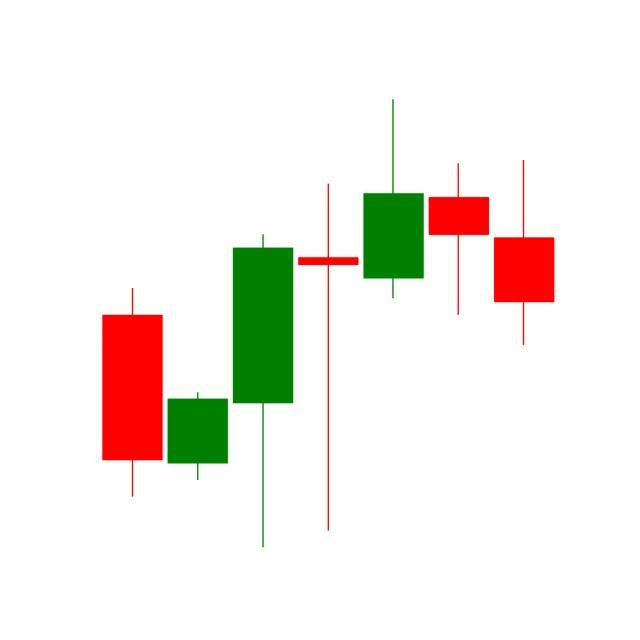Three Inside Up-Down: (360, 100, 556, 351)
